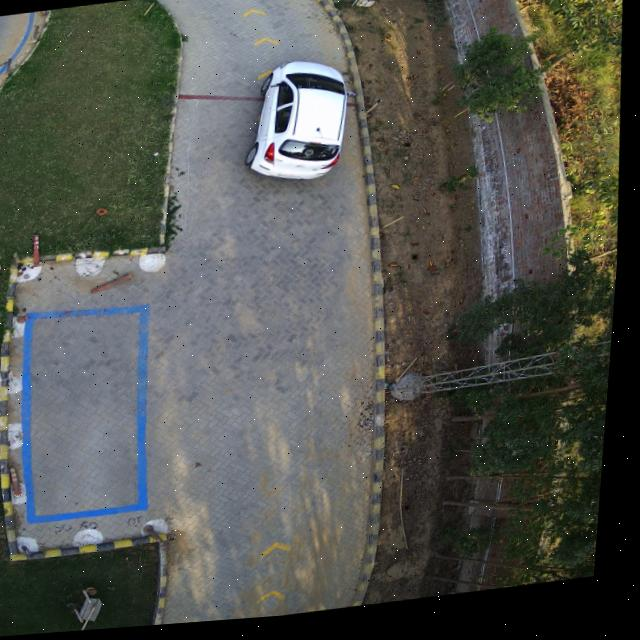car: (247, 65, 353, 186)
